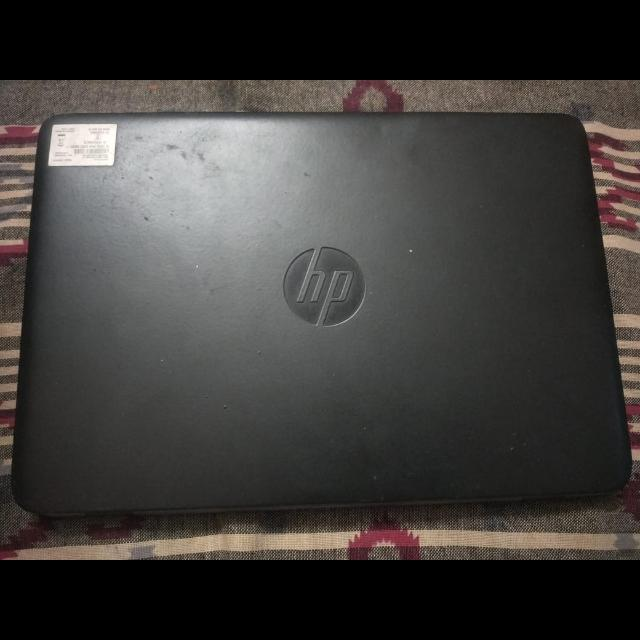laptop: (6, 92, 640, 528)
